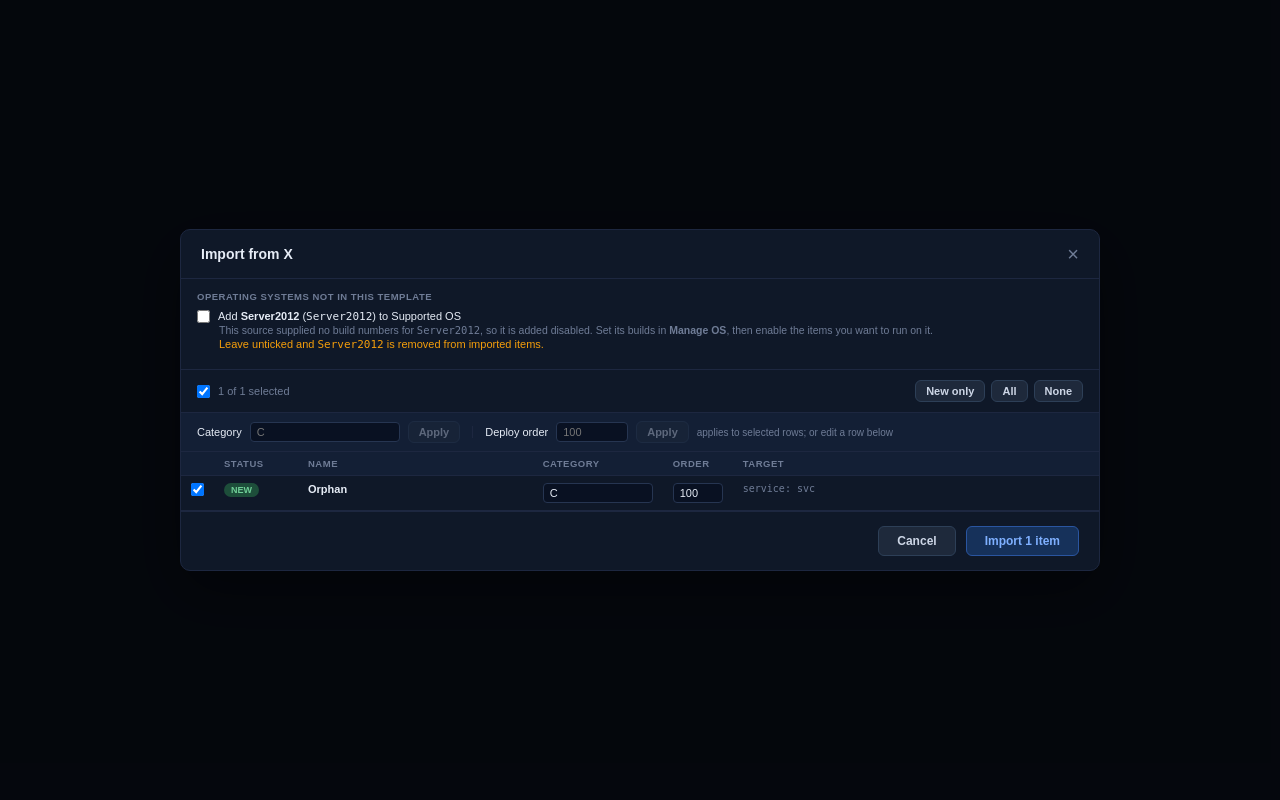
Test case: still offers to add an OS the snippet did not define, flagged as incomplete
Expected: the text "Add Server2012 (Server2012) to Supported OS" is shown, [197,310,461,323]
Expected: the element with class "mp-os-note" shows "no build numbers", [219,324,417,336]
Note: Ticking it drops the "will be removed" warning.
Click the checkbox labelled "Add Server2012 (Server2012) to Supported OS".
click(204, 316)  # box [197,310,210,323]
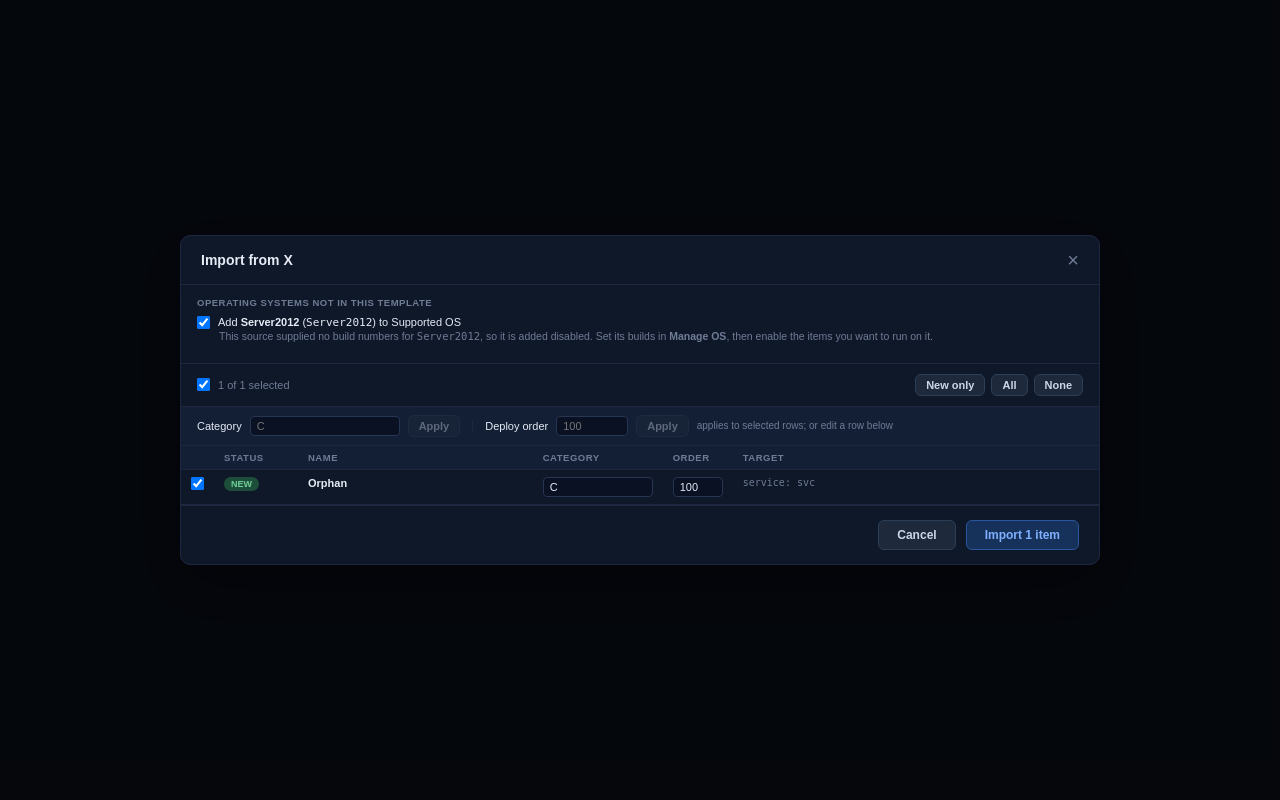
Expected: the element with class "mp-os-warn" is gone
